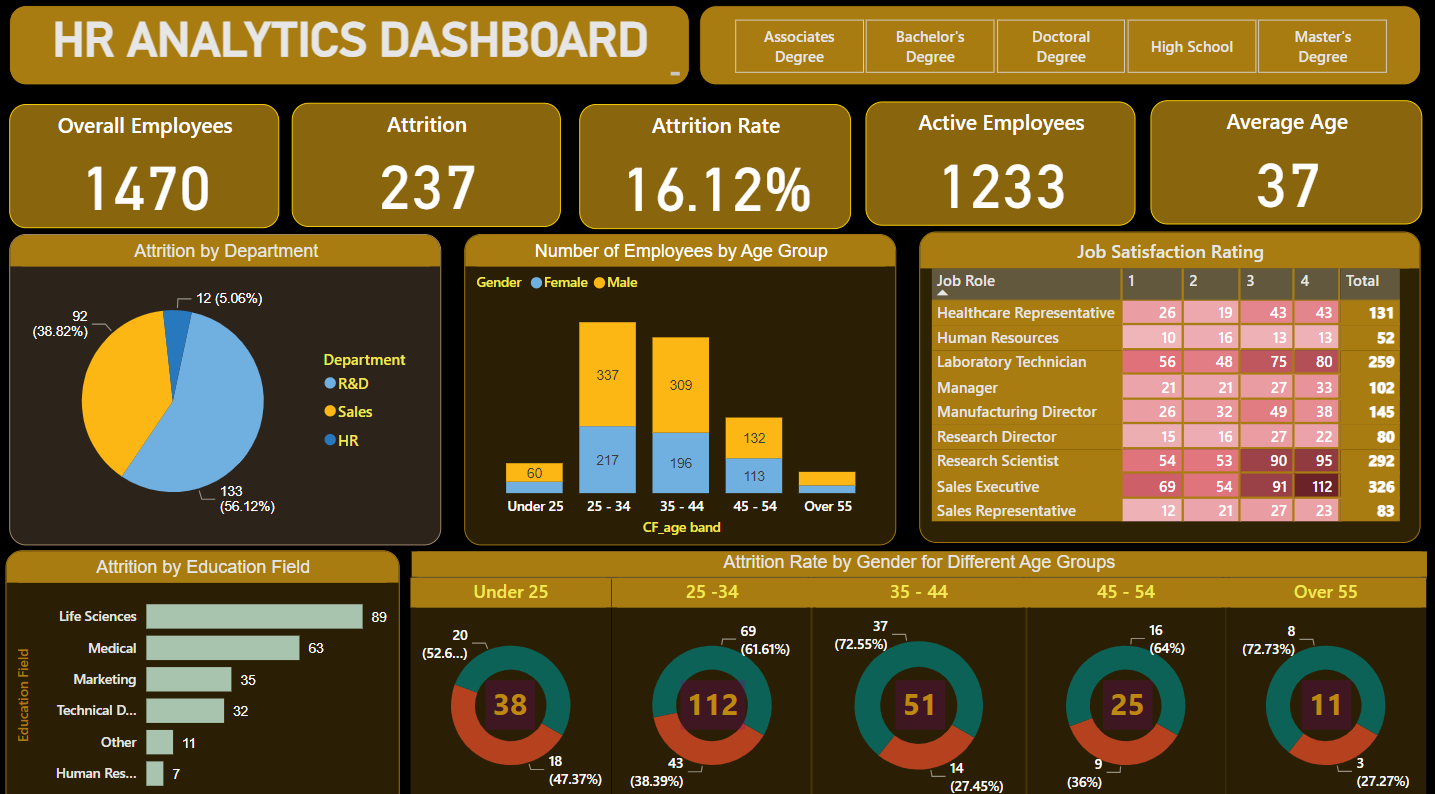

What the dashboard file says about the page in this screenshot:
{"tool":"powerbi","page":{"name":"Page 1","canvas":[1280,720],"ordinal":0},"visuals":[{"type":"card","title":"Overall Employees","fields":{"Values":["Sum(HR data.Employee Count)"]},"box":[10,93,240,110],"z":0},{"type":"card","title":"Attrition","fields":{"Values":["Sum(HR data.Attrition Count)"]},"box":[261,92,239,110],"z":1000},{"type":"card","title":"Attrition Rate","fields":{"Values":["HR data.Attrition Rate"]},"box":[517.1,92.9,241.4,111.4],"z":2000},{"type":"card","title":"Active Employees","fields":{"Values":["HR data.Active Employees"]},"box":[771.4,91.4,240,110],"z":3000},{"type":"card","title":"Average Age","fields":{"Values":["HR data.Average Age"]},"box":[1024.3,90,241.4,110],"z":4000},{"type":"pieChart","title":"Attrition by Department","fields":{"Category":["HR data.Department"],"Y":["Sum(HR data.Attrition Count)"]},"box":[10,208.6,384.3,277.1],"z":5000},{"type":"columnChart","title":"Number of Employees by Age Group","fields":{"Category":["HR data.CF_age band"],"Y":["Sum(HR data.Employee Count)"],"Series":["HR data.Gender"]},"box":[414.3,208.6,384.3,277.1],"z":6000},{"type":"pivotTable","title":"Job Satisfaction Rating","fields":{"Values":["Sum(HR data.Employee Count)"],"Rows":["HR data.Job Role"],"Columns":["HR data.Job Satisfaction"]},"box":[818.6,207.1,445.7,277.1],"z":7000},{"type":"barChart","title":"Attrition by Education Field","fields":{"Category":["HR data.Education Field"],"Y":["Sum(HR data.Attrition Count)"]},"box":[7.1,490,350,230],"z":8000},{"type":"donutChart","title":"Under 25","fields":{"Category":["HR data.Gender"],"Series":["HR data.CF_age band"],"Y":["Sum(HR data.Attrition Count)"]},"box":[367.1,514.3,178.6,205.7],"z":9000,"group":"g1"},{"type":"textbox","title":"Attrition Rate by Gender for Different Age Groups","box":[367.5,491.2,902.5,25],"z":9000},{"type":"donutChart","title":"Over 55","fields":{"Category":["HR data.Gender"],"Series":["HR data.CF_age band"],"Y":["Sum(HR data.Attrition Count)"]},"box":[1091.4,514.3,178.6,205.7],"z":10000},{"type":"donutChart","title":"25 -34","fields":{"Category":["HR data.Gender"],"Series":["HR data.CF_age band"],"Y":["Sum(HR data.Attrition Count)"]},"box":[545.7,514.3,178.6,205.7],"z":11000,"group":"g1"},{"type":"group","id":"g1","title":"Group 1","box":[367.1,514.3,725.7,205.7],"z":11000},{"type":"donutChart","title":"35 - 44","fields":{"Category":["HR data.Gender"],"Series":["HR data.CF_age band"],"Y":["Sum(HR data.Attrition Count)"]},"box":[722.8,514.3,192.9,205.7],"z":12000,"group":"g1"},{"type":"card","fields":{"Values":["Sum(HR data.Attrition Count)"]},"box":[433.8,605,43.8,43.8],"z":12000},{"type":"donutChart","title":"45 - 54","fields":{"Category":["HR data.Gender"],"Series":["HR data.CF_age band"],"Y":["Sum(HR data.Attrition Count)"]},"box":[914.2,514.3,178.6,205.7],"z":13000,"group":"g1"},{"type":"card","fields":{"Values":["Sum(HR data.Attrition Count)"]},"box":[606.2,605,57.5,43.8],"z":13000},{"type":"card","fields":{"Values":["Sum(HR data.Attrition Count)"]},"box":[797.5,605,43.8,43.8],"z":14000},{"type":"card","fields":{"Values":["Sum(HR data.Attrition Count)"]},"box":[982.5,605,43.8,43.8],"z":15000},{"type":"card","fields":{"Values":["Sum(HR data.Attrition Count)"]},"box":[1158.8,605,43.8,43.8],"z":16000},{"type":"textbox","title":"HR ANALYTICS DASHBOARD","box":[10,5,605,71.2],"z":17000},{"type":"slicer","fields":{"Values":["HR data.Education"]},"box":[623.8,5,641.2,71.2],"z":18000}]}

Visuals, with their boxes in screenshot pixels (x1, y1, x2, y2), scaled from the page's 1280x720 canvas onto the 1435x794 screenshot:
"Overall Employees" card: bbox(11, 103, 280, 224)
"Attrition" card: bbox(293, 101, 561, 223)
"Attrition Rate" card: bbox(580, 102, 850, 225)
"Active Employees" card: bbox(865, 101, 1134, 222)
"Average Age" card: bbox(1148, 99, 1419, 221)
"Attrition by Department" pieChart: bbox(11, 230, 442, 536)
"Number of Employees by Age Group" columnChart: bbox(464, 230, 895, 536)
"Job Satisfaction Rating" pivotTable: bbox(918, 228, 1417, 534)
"Attrition by Education Field" barChart: bbox(8, 540, 400, 793)
"Under 25" donutChart: bbox(412, 567, 612, 793)
"Attrition Rate by Gender for Different Age Groups" textbox: bbox(412, 542, 1424, 569)
"Over 55" donutChart: bbox(1224, 567, 1424, 793)
"25 -34" donutChart: bbox(612, 567, 812, 793)
"Group 1" group: bbox(412, 567, 1225, 793)
"35 - 44" donutChart: bbox(810, 567, 1027, 793)
card - Sum(HR data.Attrition Count): bbox(486, 667, 535, 715)
"45 - 54" donutChart: bbox(1025, 567, 1225, 793)
card - Sum(HR data.Attrition Count): bbox(680, 667, 744, 715)
card - Sum(HR data.Attrition Count): bbox(894, 667, 943, 715)
card - Sum(HR data.Attrition Count): bbox(1101, 667, 1151, 715)
card - Sum(HR data.Attrition Count): bbox(1299, 667, 1348, 715)
"HR ANALYTICS DASHBOARD" textbox: bbox(11, 6, 689, 84)
slicer - HR data.Education: bbox(699, 6, 1418, 84)
